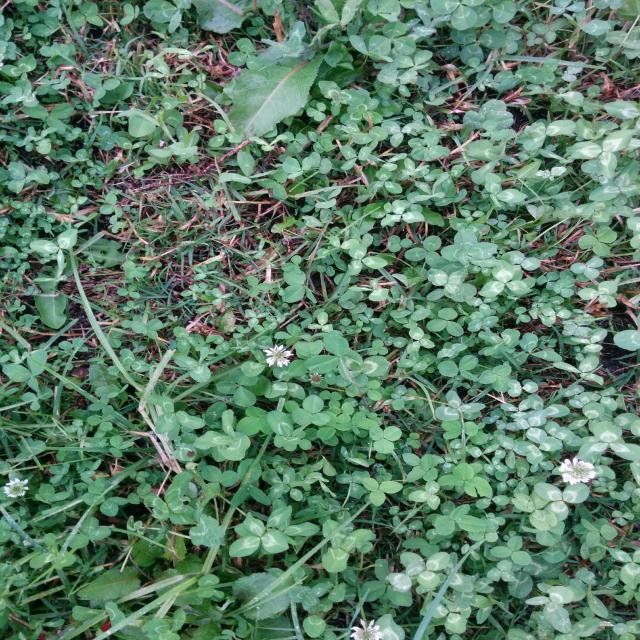Four Leaf Clover: (432, 229, 500, 275)
